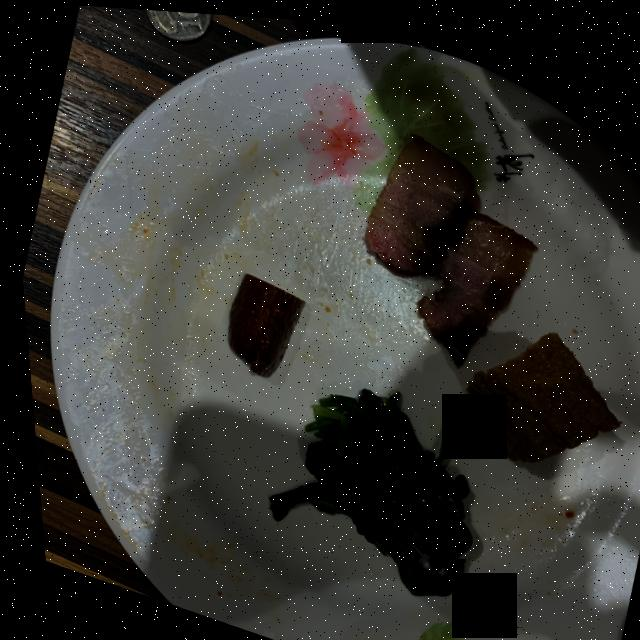coin: (147, 8, 211, 38)
egg tofu: (461, 324, 613, 455)
firm tofu: (222, 269, 300, 373)
grilled pork: (361, 128, 532, 359)
mustard greens: (261, 383, 463, 589)
